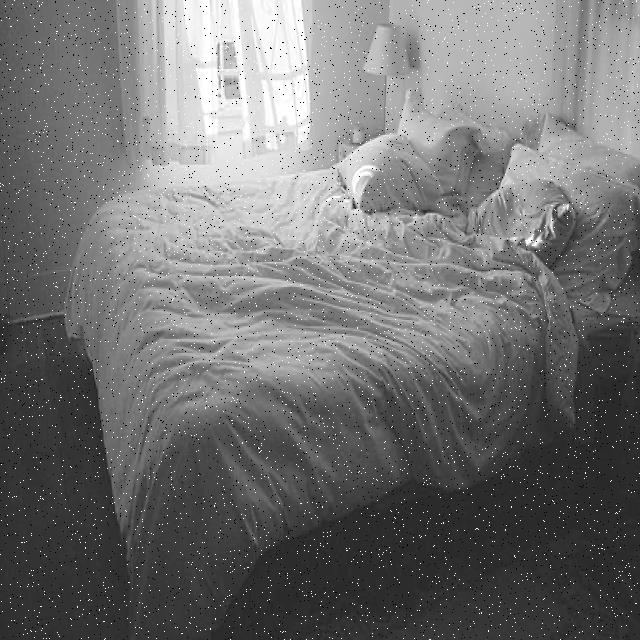bed: (71, 88, 640, 612)
